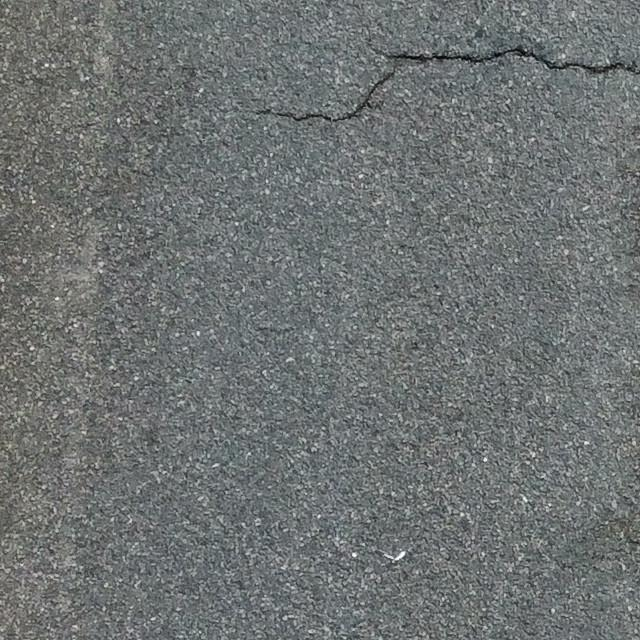TransverseCrack: (256, 43, 640, 123)
